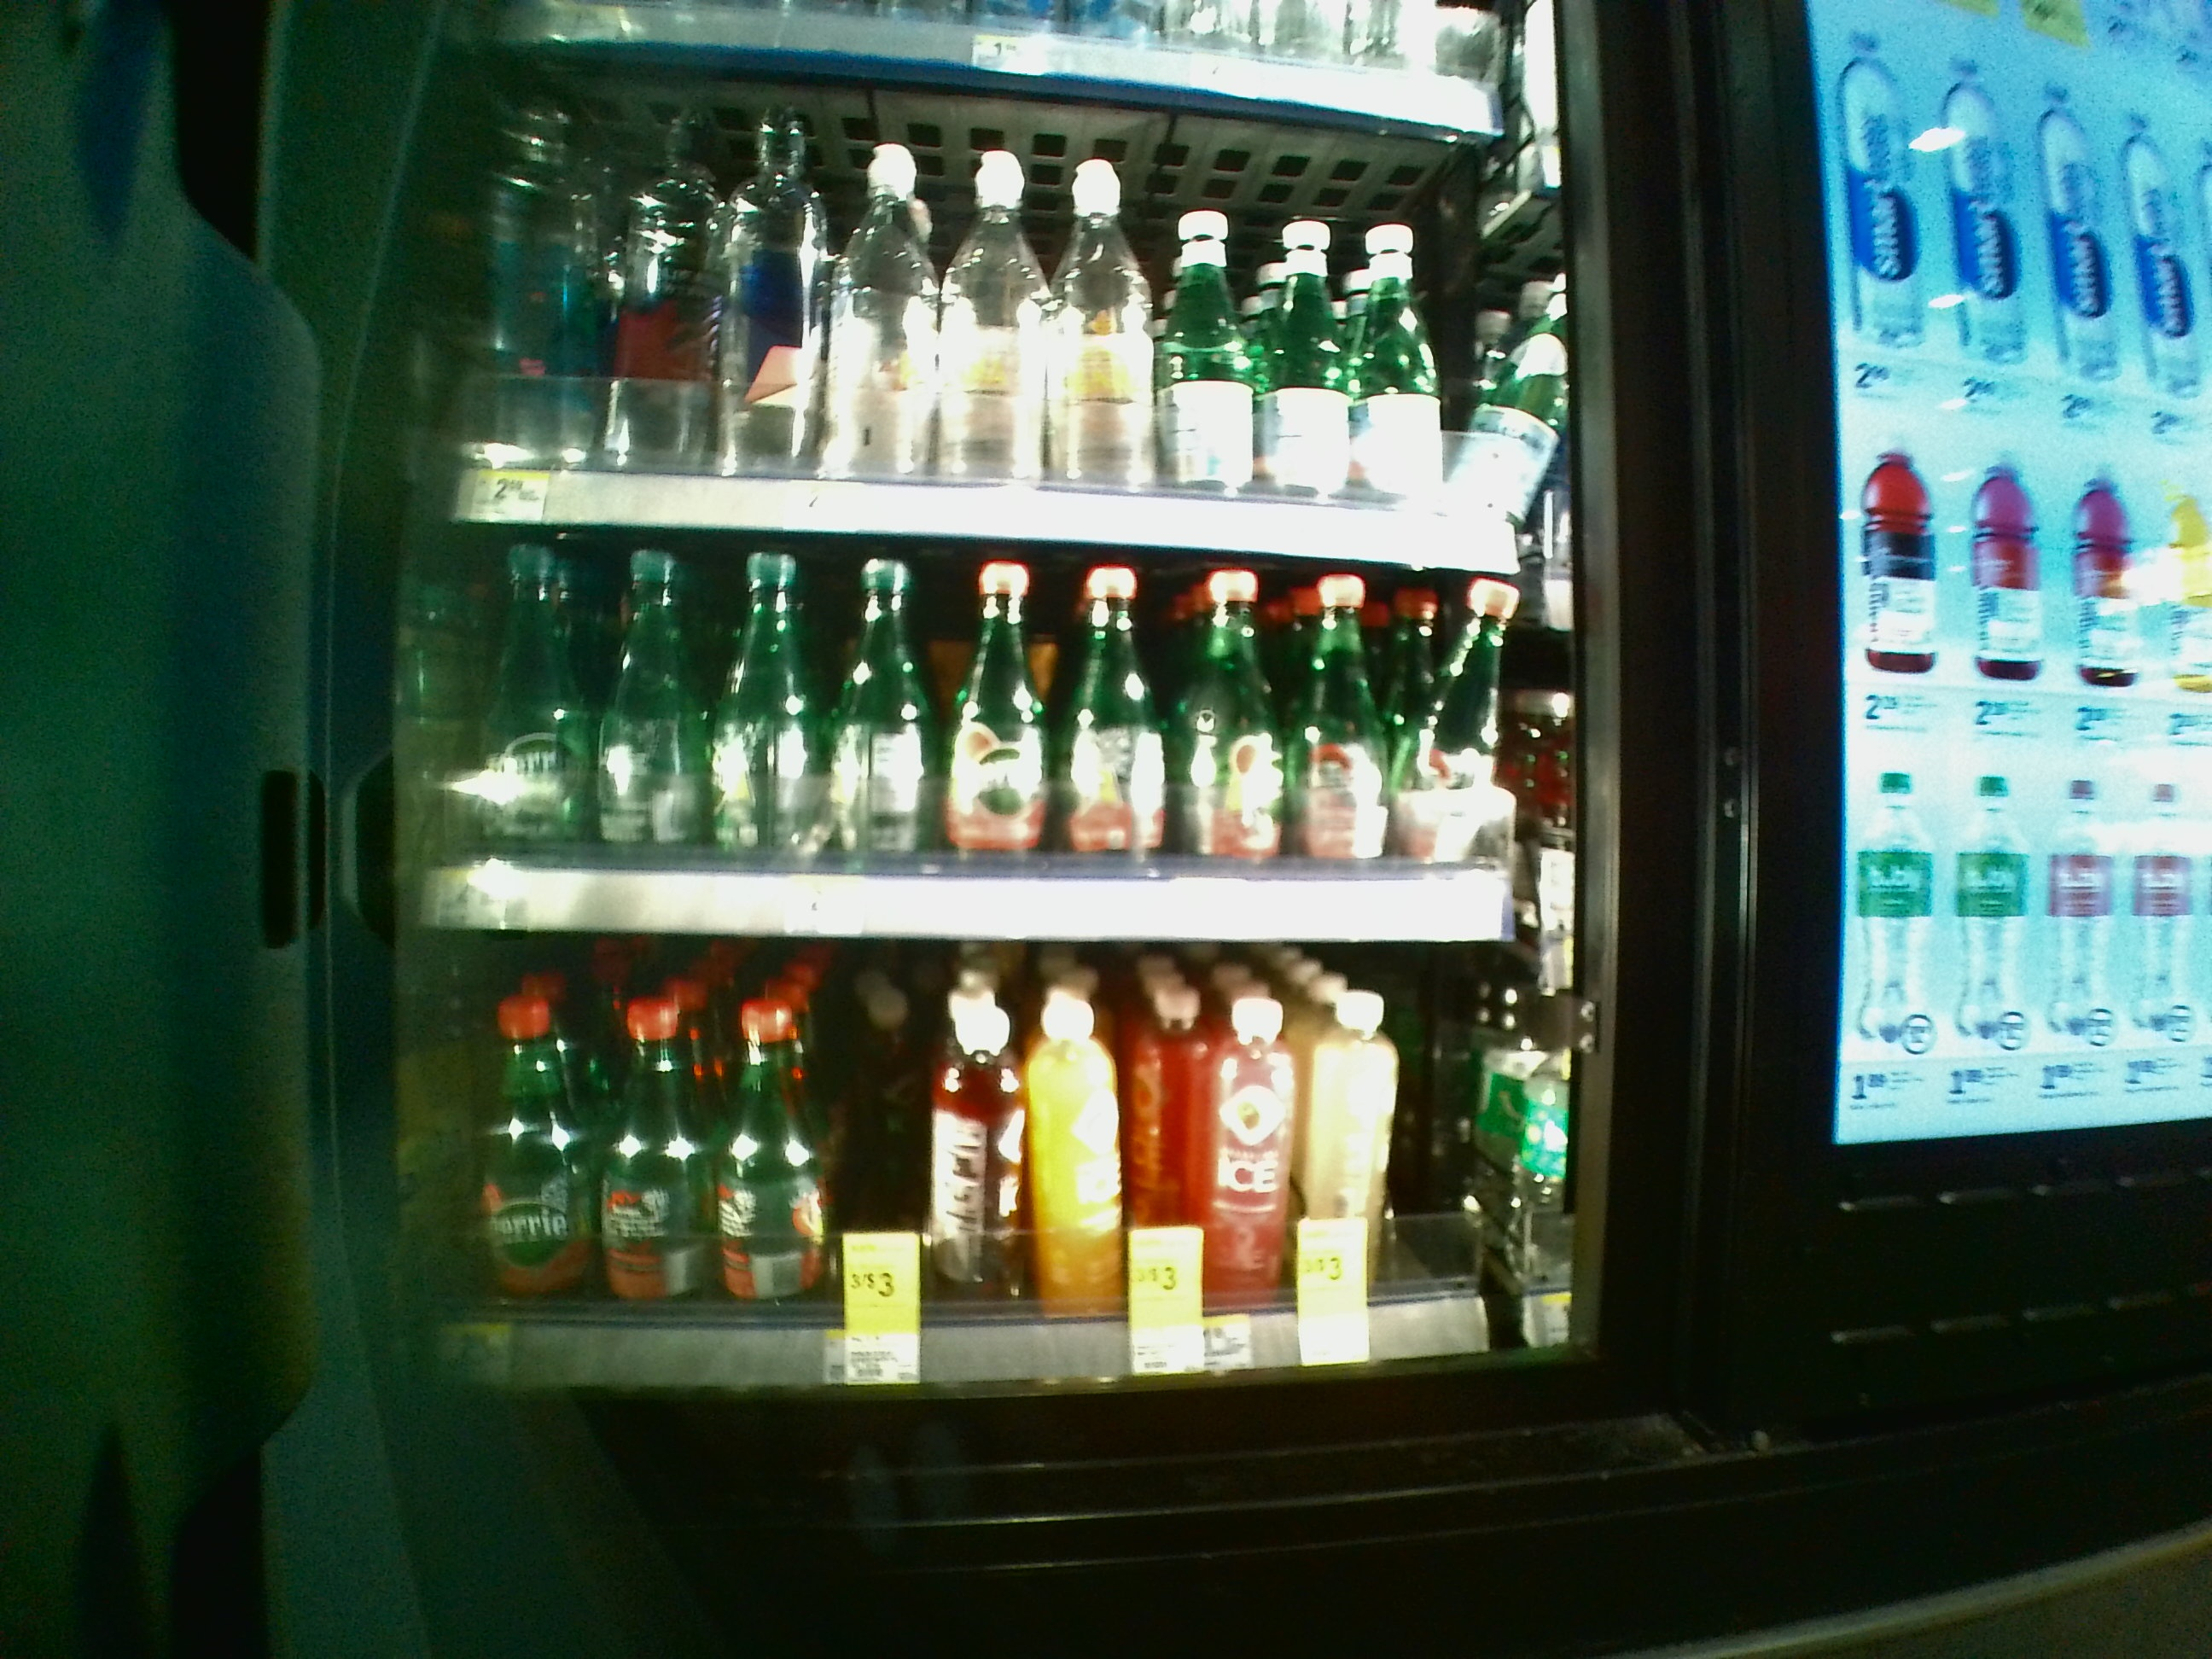shelf: (380, 938, 1588, 1391), (381, 532, 1576, 938)
